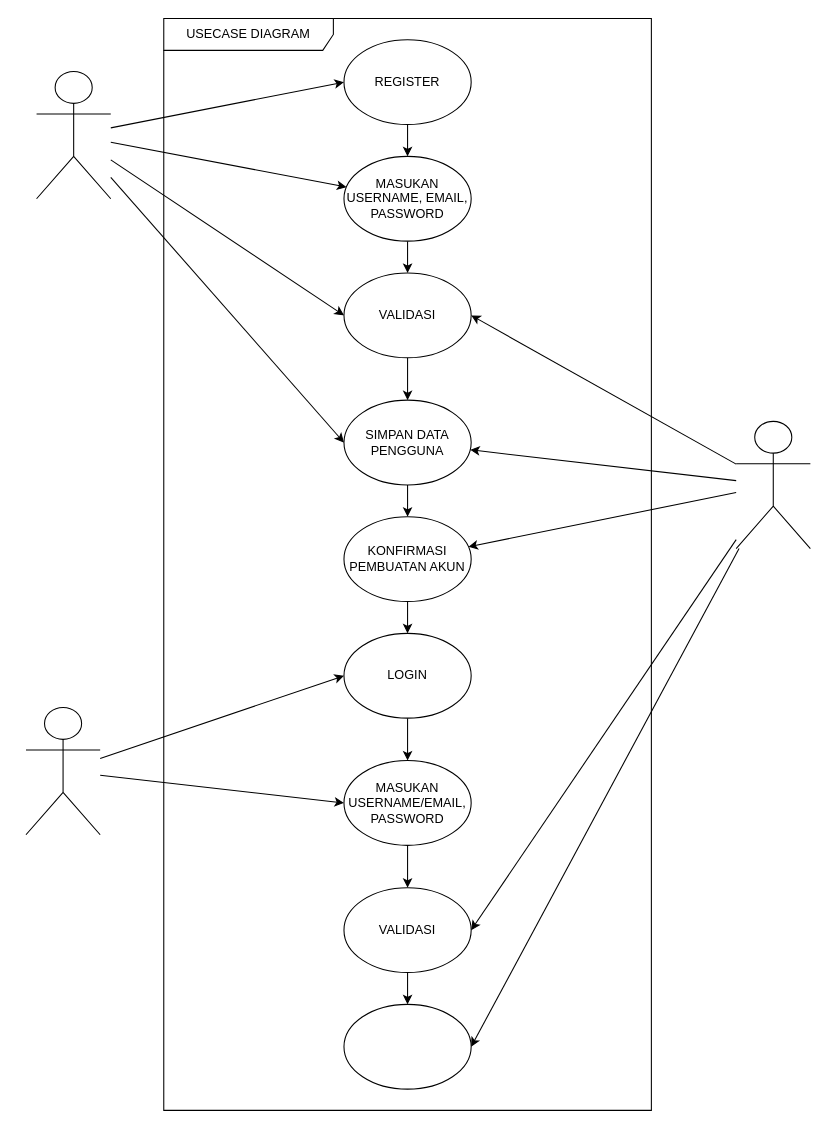
Image size: 829x1129. Some labels were removed from this diagram. The shapes that lost their labels are listed below. From the top down, each one's box as (x1, y1, x2, y2) in pixels, then its label:
(36, 70, 111, 199): PENGGUNA BARU
(735, 420, 810, 549): SYSTEM
(25, 706, 100, 835): PENGGUNA
(343, 1003, 471, 1089): BERIKAN AKSES KE HALAMAN UTAMA
